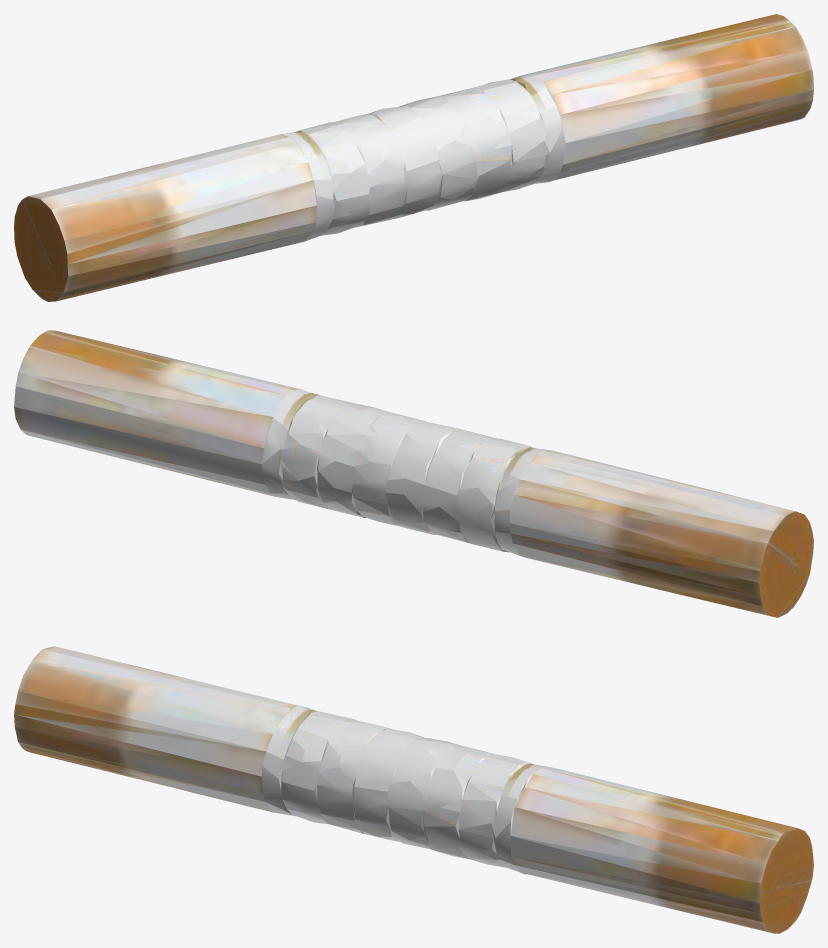
File: cigarette.glb
The picture shows the model from 3 angles, top to bottom: view 1: azimuth 30°, elevation 25°; view 2: azimuth 150°, elevation 25°; view 3: azimuth 330°, elevation 25°; orthographic projection.
Parts seen in each view (by area): view 1: Mesh_0; view 2: Mesh_0; view 3: Mesh_0.
Boxes of the visible parts, box(x1,y1,x2,y2) form: Mesh_0: box(14, 14, 813, 301); Mesh_0: box(14, 330, 813, 617); Mesh_0: box(14, 646, 813, 933).
Bounding box in the file's own units: 1.9 × 0.2454 × 0.2448.
Materials: 1 (1 with a texture image).
